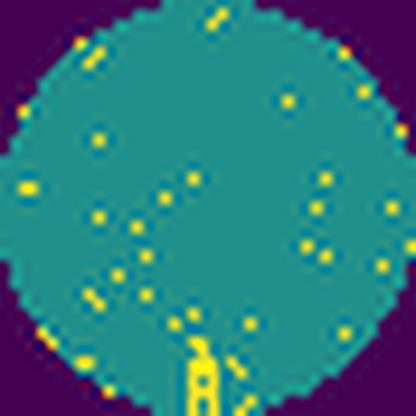Loc: (180, 333, 222, 416)
